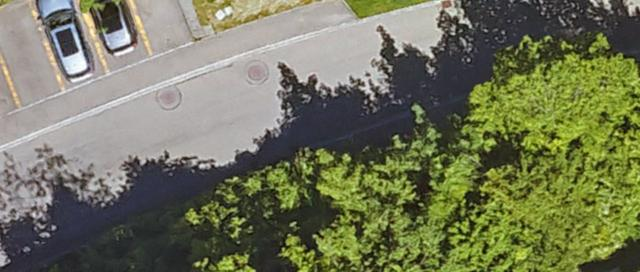tree: (458, 44, 640, 272), (205, 157, 382, 272), (366, 126, 480, 272)
